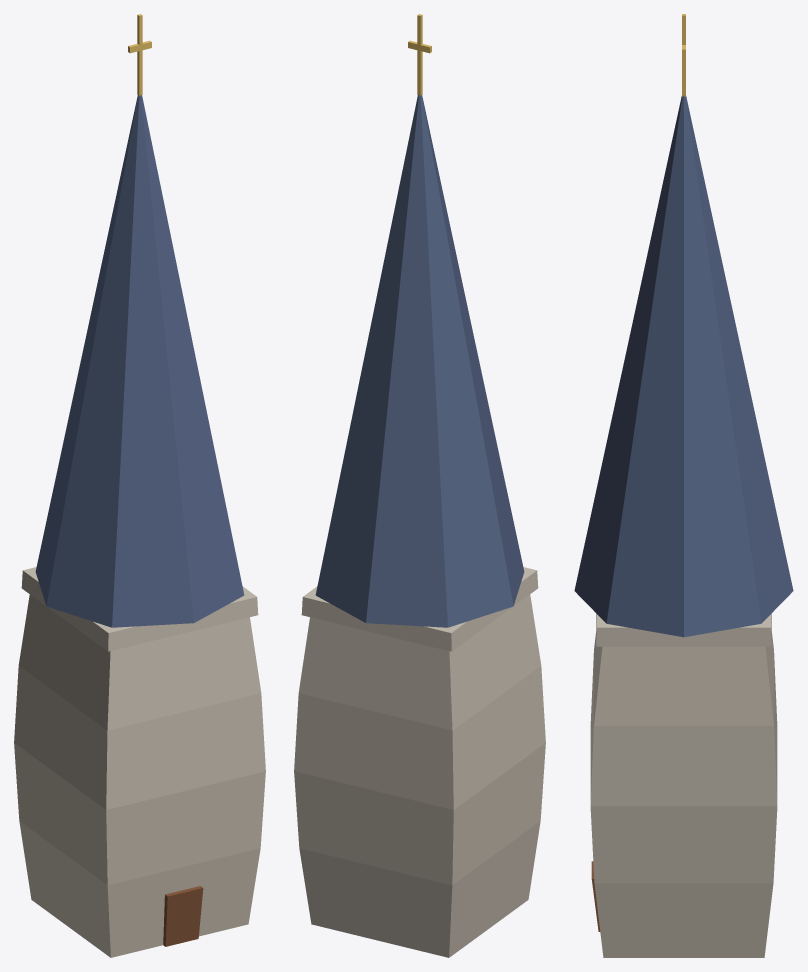
The model's file is spire.glb.
3 views of the same model, side by side, from view 1: azimuth 30°, elevation 25°; view 2: azimuth 150°, elevation 25°; view 3: azimuth 270°, elevation 25° (orthographic).
Visible parts, largest first — view 1: spire_stone, spire_roof_slate, spire_door, spire_gold; view 2: spire_stone, spire_roof_slate, spire_gold; view 3: spire_roof_slate, spire_stone.
Part boxes in pixels (x1,y1,x2,y2): spire_stone: (14,567,265,957); spire_roof_slate: (35,94,244,627); spire_door: (163,886,203,946); spire_gold: (128,14,151,95); spire_stone: (294,567,545,957); spire_roof_slate: (315,94,524,627); spire_gold: (408,14,431,95); spire_roof_slate: (574,96,793,637); spire_stone: (590,614,777,957).
Size of the model in its own units: 7.07 by 32.38 by 7.07.
